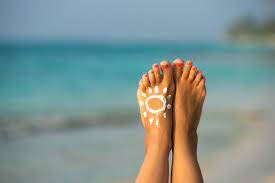Feet: (136, 60, 173, 151), (172, 57, 207, 149)
